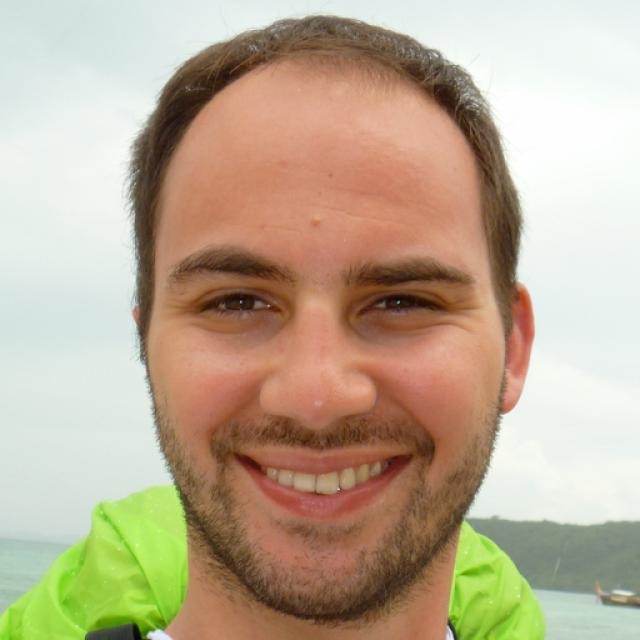happy: (147, 83, 508, 622)
